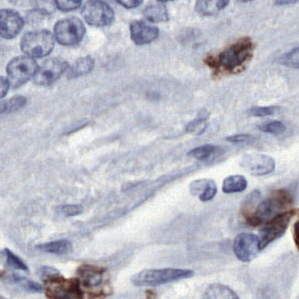Lymphocyte: (205, 38, 254, 74)
